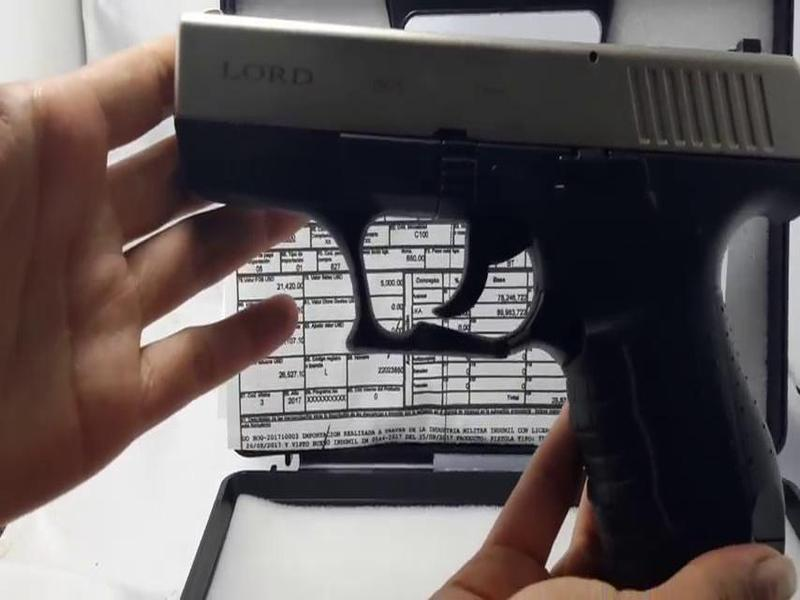Pistola: (171, 4, 788, 573)
